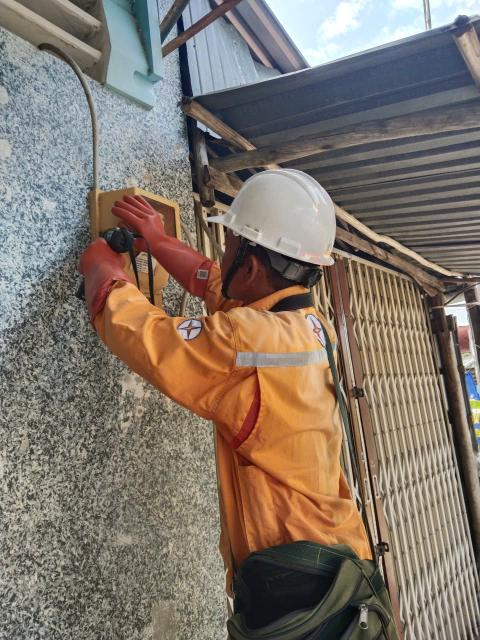gloves: (109, 190, 219, 293), (83, 220, 139, 320)
helmet: (219, 171, 342, 277)
